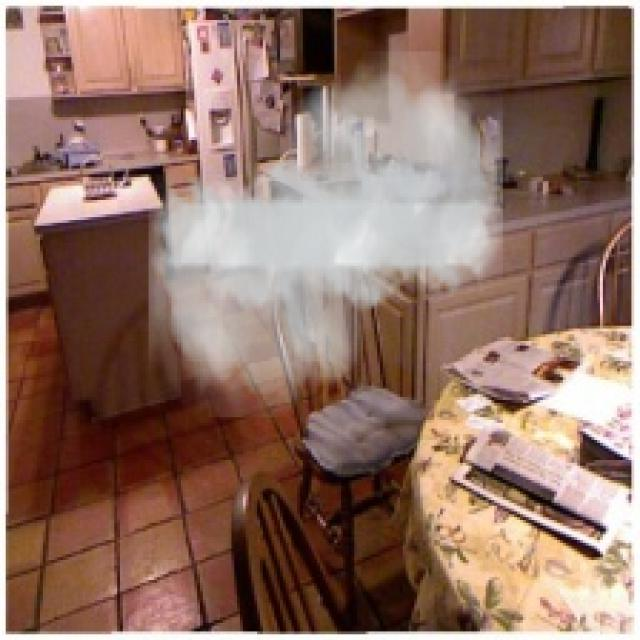smoke: (148, 52, 503, 417)
